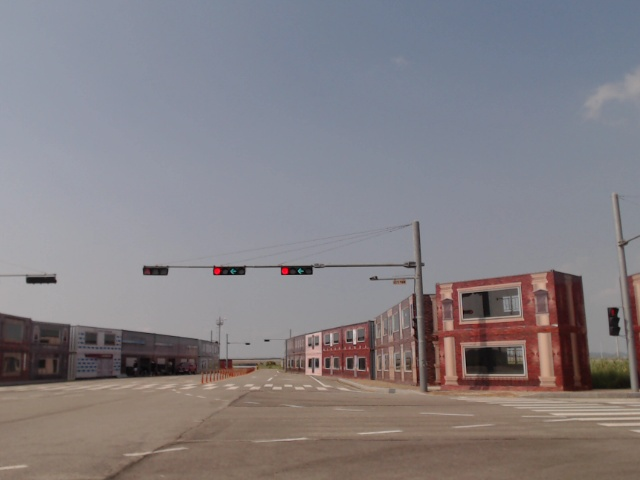left_green_4: (282, 266, 312, 276), (213, 267, 245, 275)
